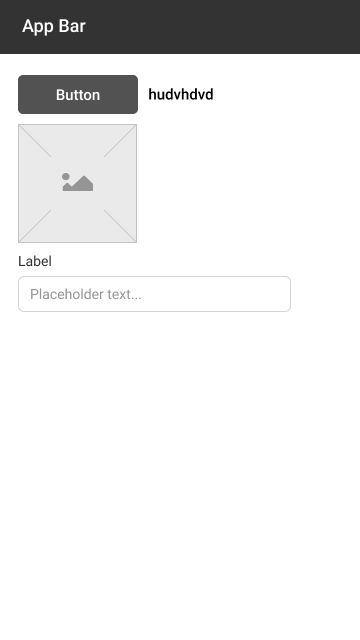button: (15, 72, 141, 117)
editText: (18, 273, 294, 313)
imageView: (16, 121, 141, 246)
textView: (147, 87, 217, 104), (18, 255, 54, 269)
toolbar: (1, 1, 360, 55)
